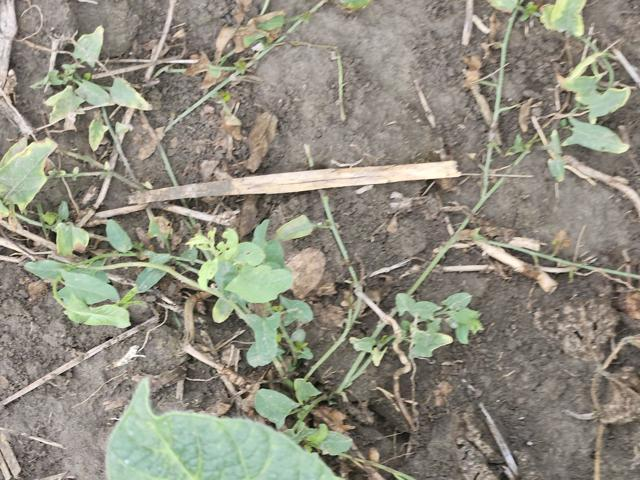bad weed: (0, 184, 447, 417), (477, 23, 629, 183), (22, 23, 145, 159)
